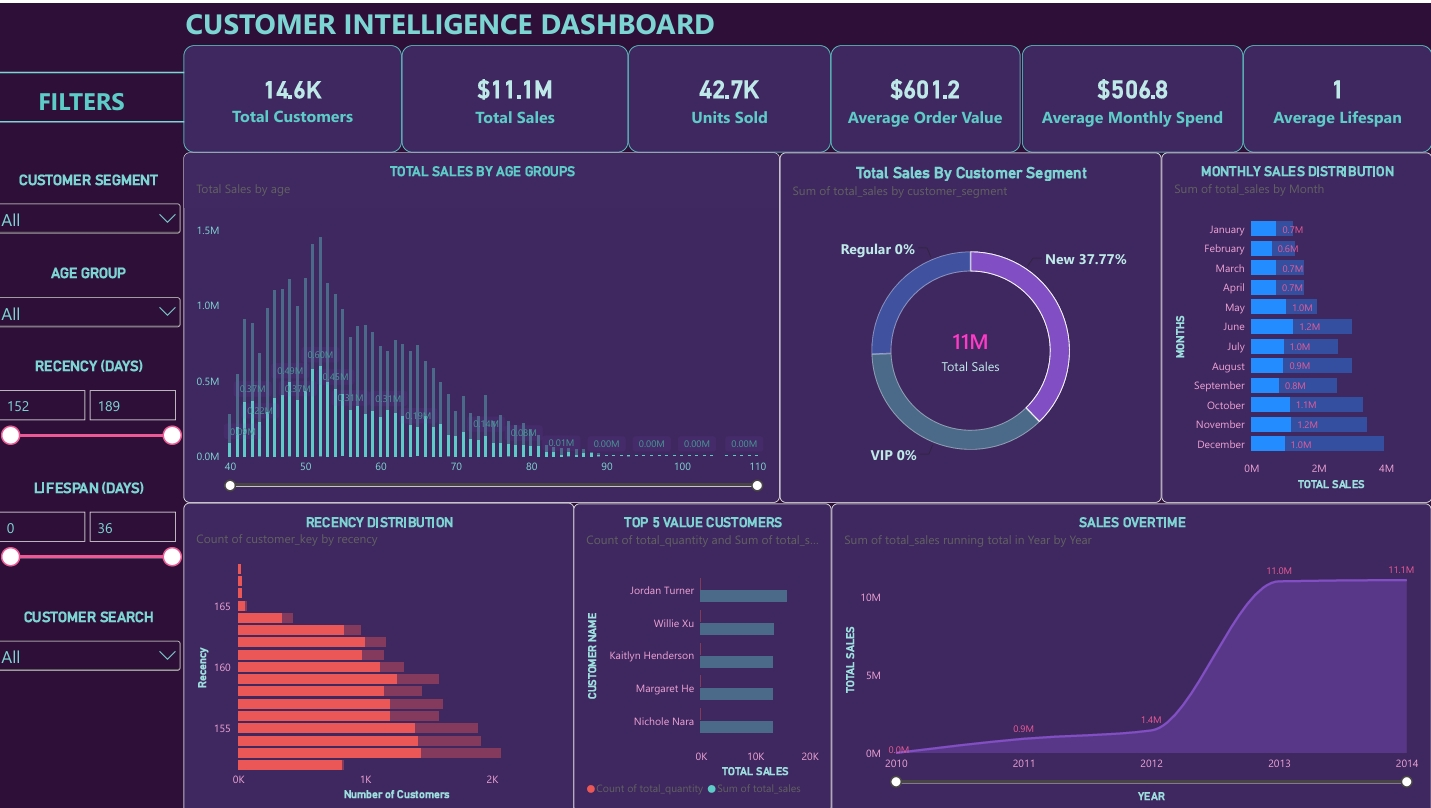

This screenshot's page, from the dashboard's own definition file:
{"tool":"powerbi","page":{"name":"Page 1","canvas":[1920,1080],"ordinal":0},"visuals":[{"type":"advanceCardE03760C5AB684758B56AA29F9E6C257B","fields":{"mainMeasure":["Count(gold report_customers.customer_key)"]},"box":[254.4,54.5,290.7,143.1],"z":0},{"type":"advanceCardE03760C5AB684758B56AA29F9E6C257B","fields":{"mainMeasure":["Sum(gold report_customers.total_sales)"]},"box":[545.1,54.5,302.1,143.1],"z":1000},{"type":"advanceCardE03760C5AB684758B56AA29F9E6C257B","fields":{"mainMeasure":["Sum(gold report_customers.total_quantity)"]},"box":[847.2,54.5,270.3,143.1],"z":2000},{"type":"advanceCardE03760C5AB684758B56AA29F9E6C257B","fields":{"mainMeasure":["Avg(gold report_customers.lifespan)"]},"box":[1667.1,54.5,252.1,143.1],"z":3000},{"type":"advanceCardE03760C5AB684758B56AA29F9E6C257B","fields":{"mainMeasure":["Avg(gold report_customers.avg_order_value)"]},"box":[1117.5,54.5,252.1,143.1],"z":4000},{"type":"advanceCardE03760C5AB684758B56AA29F9E6C257B","fields":{"mainMeasure":["Avg(gold report_customers.avg_monthly_spend)"]},"box":[1371.9,54.5,295.3,143.1],"z":5000},{"type":"clusteredColumnChart","title":"TOTAL SALES BY AGE GROUPS","fields":{"Category":["gold report_customers.age"],"Y":["Sum(gold report_customers.total_sales)"]},"box":[254.4,197.6,795,467.9],"z":6000},{"type":"donutChart","title":"Total Sales By Customer Segment","fields":{"Category":["gold report_customers.customer_segment"],"Y":["Sum(gold report_customers.total_sales)"]},"box":[1049.3,197.6,508.8,467.9],"z":7000},{"type":"clusteredBarChart","title":"RECENCY DISTRIBUTION","fields":{"Category":["gold report_customers.recency"],"Y":["CountNonNull(gold report_customers.customer_key)"]},"box":[254.4,665.5,520.1,413.4],"z":8000},{"type":"clusteredBarChart","title":"TOP 5 VALUE CUSTOMERS","fields":{"Category":["gold report_customers.customer_name"],"Y":["CountNonNull(gold report_customers.total_quantity)","Sum(gold report_customers.total_sales)"]},"box":[773.6,666.4,344.8,411.4],"z":9000},{"type":"clusteredBarChart","title":"MONTHLY SALES DISTRIBUTION","fields":{"Category":["gold report_customers.last_order_date.Variation.Date Hierarchy.Month"],"Y":["Sum(gold report_customers.total_sales)"]},"box":[1558.1,197.6,361.1,467.9],"z":10000},{"type":"areaChart","title":"SALES OVERTIME","fields":{"Category":["gold report_customers.last_order_date.Variation.Date Hierarchy.Year"],"Y":["gold report_customers.Sum of total_sales running total in Year"]},"box":[1118.4,666.4,799.7,414.3],"z":11000},{"type":"textbox","box":[0,106.8,236.2,56.8],"z":12000},{"type":"shape","box":[0,77.2,255,29],"z":12001},{"type":"shape","box":[0,149.9,255,14.5],"z":12002},{"type":"slicer","title":"CUSTOMER SEGMENT","fields":{"Values":["gold report_customers.customer_segment"]},"box":[0,222.6,255,84],"z":12003},{"type":"slicer","title":"AGE GROUP","fields":{"Values":["gold report_customers.age_group"]},"box":[0,347.5,255,84],"z":12004},{"type":"slicer","title":"RECENCY (DAYS)","fields":{"Values":["gold report_customers.recency"]},"box":[0,472.4,255,136.2],"z":12005},{"type":"slicer","title":"LIFESPAN (DAYS)","fields":{"Values":["gold report_customers.lifespan"]},"box":[0,633.7,255,136.2],"z":12006},{"type":"slicer","title":"CUSTOMER SEARCH","fields":{"Values":["gold report_customers.customer_name"]},"box":[0,806.3,255,136.2],"z":12007},{"type":"textbox","box":[256.7,0,917.6,56.8],"z":12008}]}

Visuals, with their boxes in screenshot pixels (x1, y1, x2, y2), scaled from the page's 1920x1080 canvas onto the 1431x808 screenshot:
advanceCardE03760C5AB684758B56AA29F9E6C257B - Count(gold report_customers.customer_key): box(190, 41, 406, 148)
advanceCardE03760C5AB684758B56AA29F9E6C257B - Sum(gold report_customers.total_sales): box(406, 41, 631, 148)
advanceCardE03760C5AB684758B56AA29F9E6C257B - Sum(gold report_customers.total_quantity): box(631, 41, 833, 148)
advanceCardE03760C5AB684758B56AA29F9E6C257B - Avg(gold report_customers.lifespan): box(1243, 41, 1430, 148)
advanceCardE03760C5AB684758B56AA29F9E6C257B - Avg(gold report_customers.avg_order_value): box(833, 41, 1021, 148)
advanceCardE03760C5AB684758B56AA29F9E6C257B - Avg(gold report_customers.avg_monthly_spend): box(1022, 41, 1243, 148)
"TOTAL SALES BY AGE GROUPS" clusteredColumnChart: box(190, 148, 782, 498)
"Total Sales By Customer Segment" donutChart: box(782, 148, 1161, 498)
"RECENCY DISTRIBUTION" clusteredBarChart: box(190, 498, 577, 807)
"TOP 5 VALUE CUSTOMERS" clusteredBarChart: box(577, 499, 834, 806)
"MONTHLY SALES DISTRIBUTION" clusteredBarChart: box(1161, 148, 1430, 498)
"SALES OVERTIME" areaChart: box(834, 499, 1430, 807)
textbox: box(0, 80, 176, 122)
shape: box(0, 58, 190, 79)
shape: box(0, 112, 190, 123)
"CUSTOMER SEGMENT" slicer: box(0, 167, 190, 229)
"AGE GROUP" slicer: box(0, 260, 190, 323)
"RECENCY (DAYS)" slicer: box(0, 353, 190, 455)
"LIFESPAN (DAYS)" slicer: box(0, 474, 190, 576)
"CUSTOMER SEARCH" slicer: box(0, 603, 190, 705)
textbox: box(191, 0, 875, 42)
